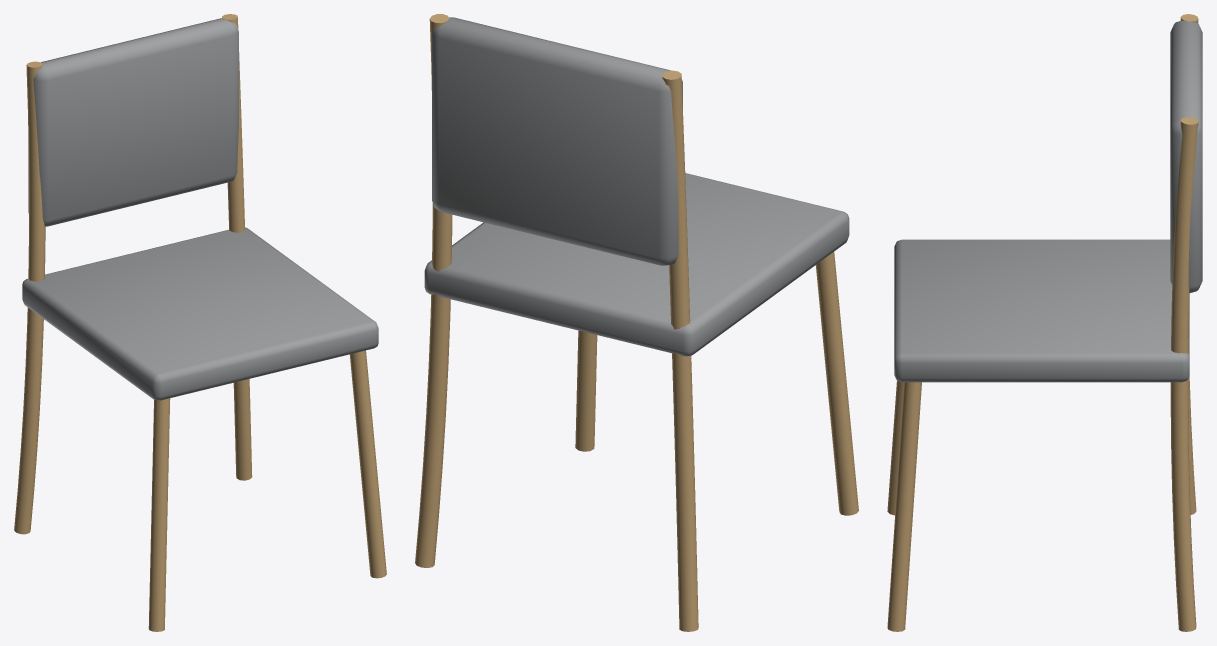
Rendered from i_chair_9.glb.
3 views of the same model, side by side, from view 1: azimuth 30°, elevation 25°; view 2: azimuth 150°, elevation 25°; view 3: azimuth 270°, elevation 25° (orthographic). The views are drawn at different scales.
Parts seen in each view (by area): view 1: o.004, o.005, o.001, o.002, o, o.003; view 2: o.005, o.004, o.001, o.003, o, o.002; view 3: o.004, o.003, o.005, o.002, o, o.001.
Part boxes in pixels (x1,y1,x2,y2): o.004: (22,227,378,400); o.005: (28,18,238,226); o.001: (14,61,45,534); o.002: (349,350,386,578); o: (148,398,170,631); o.003: (222,14,252,480); o.005: (432,17,682,265); o.004: (424,173,849,356); o.001: (662,70,698,631); o.003: (415,14,452,567); o: (815,252,858,515); o.002: (575,330,597,451); o.004: (894,239,1189,382); o.003: (1170,117,1198,631); o.005: (1170,20,1202,293); o.002: (887,382,921,631); o: (887,381,904,515); o.001: (1180,14,1198,514).
Bounding box in the file's own units: 0.4597 × 0.8621 × 0.4906.
